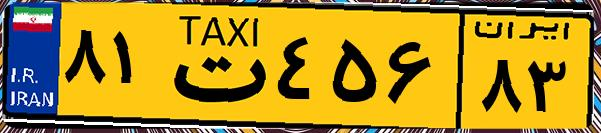1: (110, 28, 158, 98)
3: (525, 38, 570, 115)
4: (270, 28, 330, 110)
5: (330, 28, 385, 110)
6: (385, 28, 445, 110)
8: (57, 26, 110, 100), (475, 38, 525, 113)
ت: (158, 12, 270, 120)
